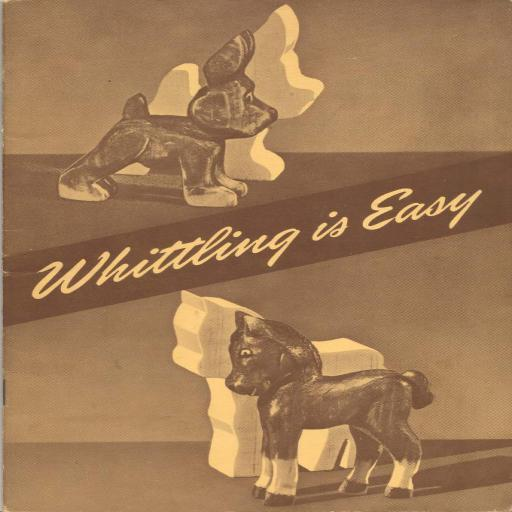horse: (224, 312, 432, 506)
